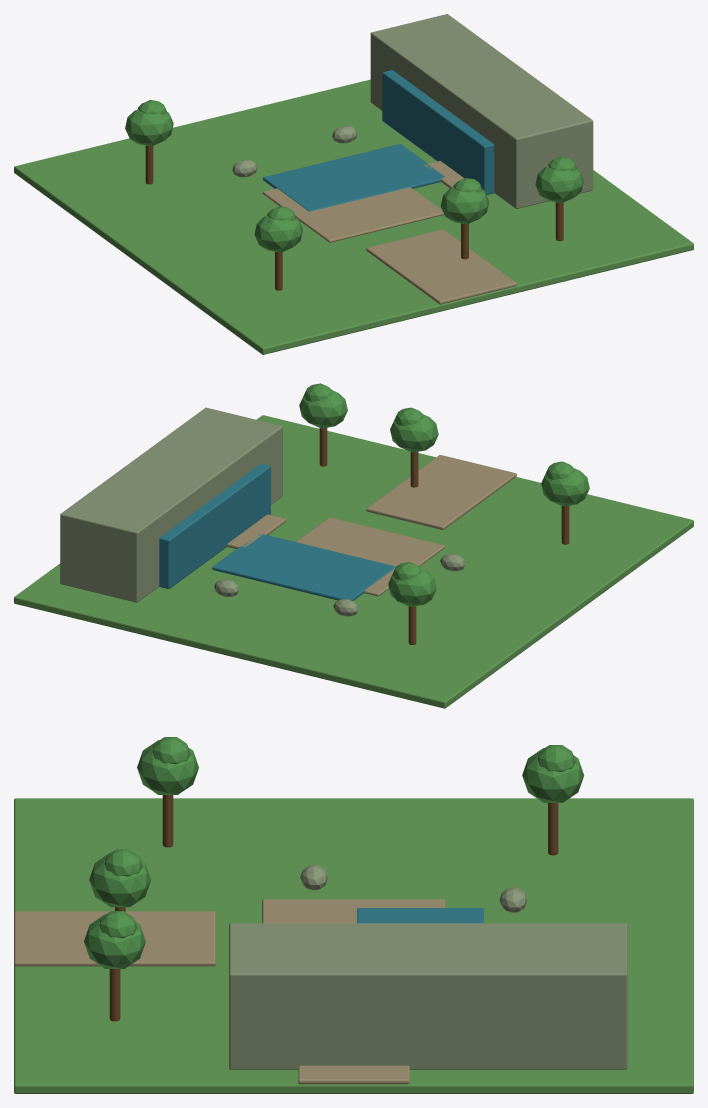
The model's file is chunk_waterfall.fbx.
3 views of the same model, one above another, from view 1: azimuth 30°, elevation 25°; view 2: azimuth 150°, elevation 25°; view 3: azimuth 270°, elevation 25° (orthographic). The views are drawn at different scales.
Parts seen in each view (by area): view 1: chunk_waterfall; view 2: chunk_waterfall; view 3: chunk_waterfall.
Part boxes in pixels (<box>): chunk_waterfall: <box>14,14,693,354</box>; chunk_waterfall: <box>14,383,693,708</box>; chunk_waterfall: <box>14,737,693,1093</box>.
Bounding box in the file's own units: 256 × 49.55 × 256.
